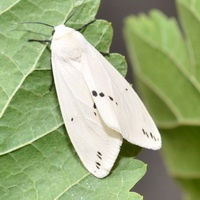insect: (17, 1, 160, 177)
